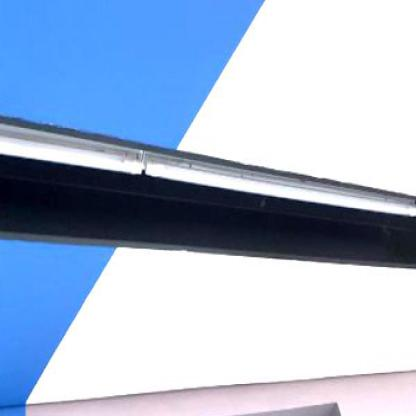light_off: (0, 71, 415, 245)
